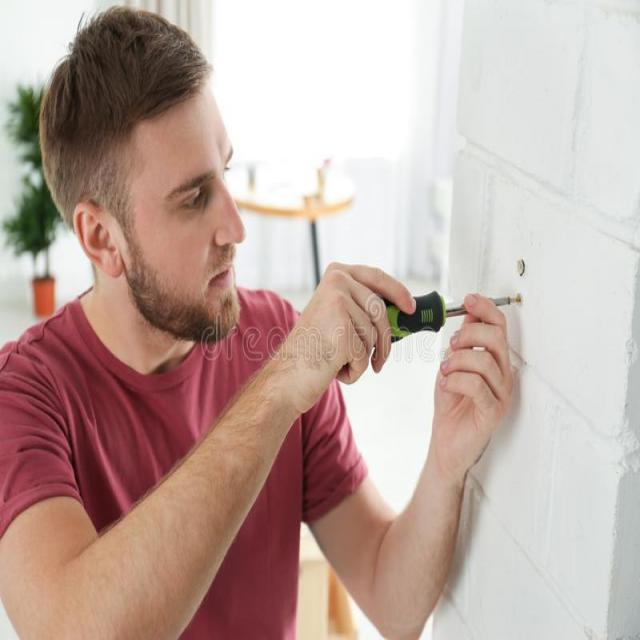screwdriver: (342, 282, 517, 354)
